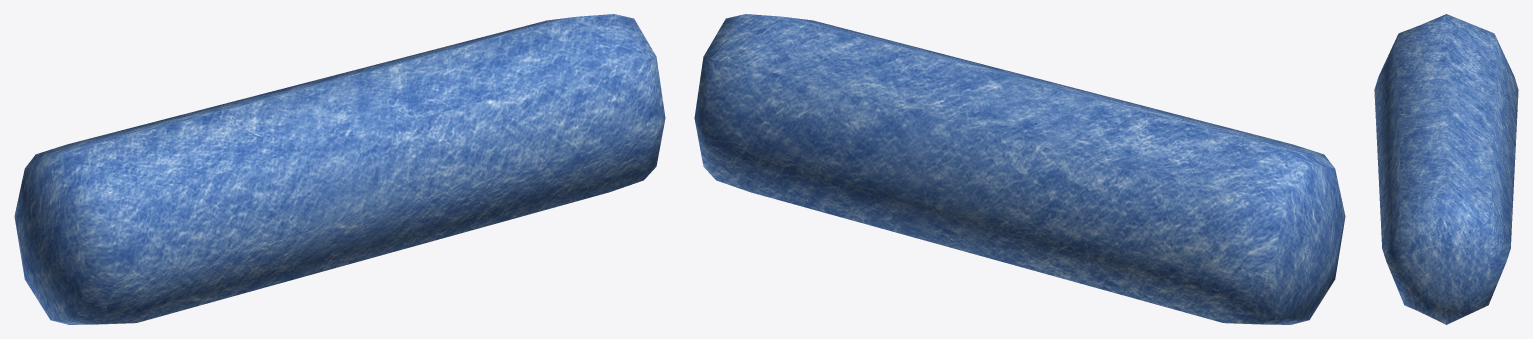
3 views of the same model, side by side, from view 1: azimuth 30°, elevation 25°; view 2: azimuth 150°, elevation 25°; view 3: azimuth 270°, elevation 25° (orthographic). The views are drawn at different scales.
Visible parts, largest first — view 1: Capsule001; view 2: Capsule001; view 3: Capsule001.
Part boxes in pixels (x1,y1,x2,y2): Capsule001: (14,14,665,324); Capsule001: (694,14,1345,324); Capsule001: (1374,14,1518,324).
Bounding box in the file's own units: 17.07 × 5.07 × 4.82.
Materials: 1 (1 with a texture image).
